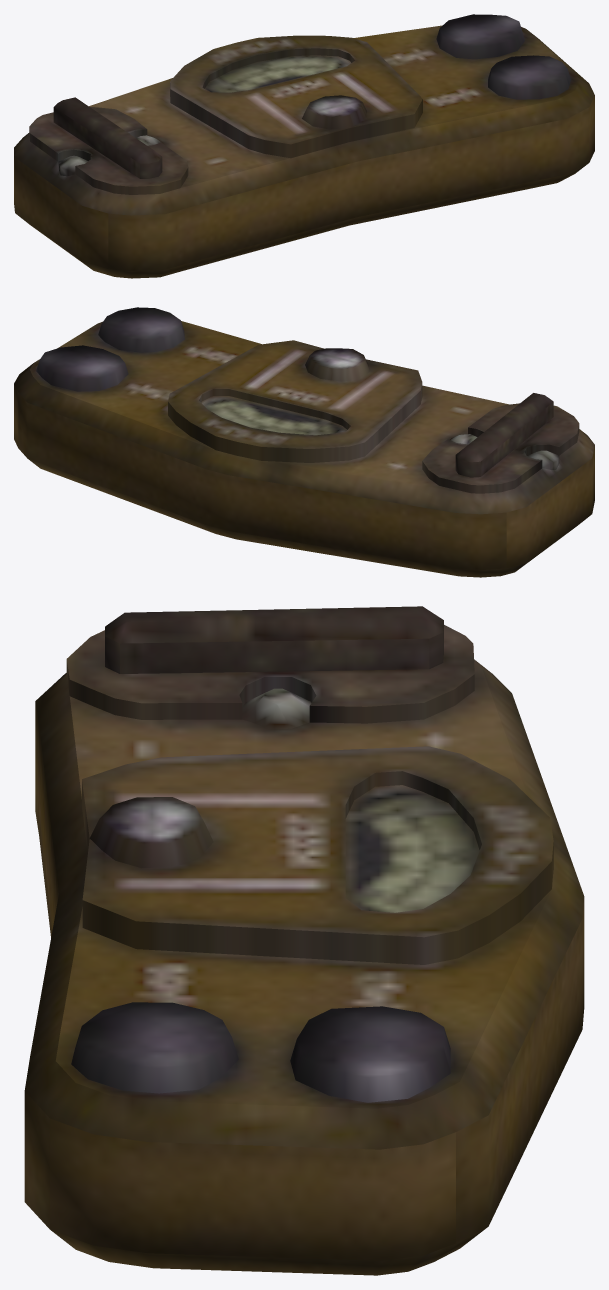
File: dosimeter_2.obj
3 views of the same model, one above another, from view 1: azimuth 30°, elevation 25°; view 2: azimuth 150°, elevation 25°; view 3: azimuth 270°, elevation 25° (orthographic). The views are drawn at different scales.
Parts seen in each view (by area): view 1: dosimeter_2; view 2: dosimeter_2; view 3: dosimeter_2.
Boxes of the visible parts, box(x1,y1,x2,y2) form: dosimeter_2: box(14, 14, 594, 278); dosimeter_2: box(14, 307, 594, 577); dosimeter_2: box(24, 606, 584, 1275).
Bounding box in the file's own units: 0.3097 × 0.0656 × 0.1459.
